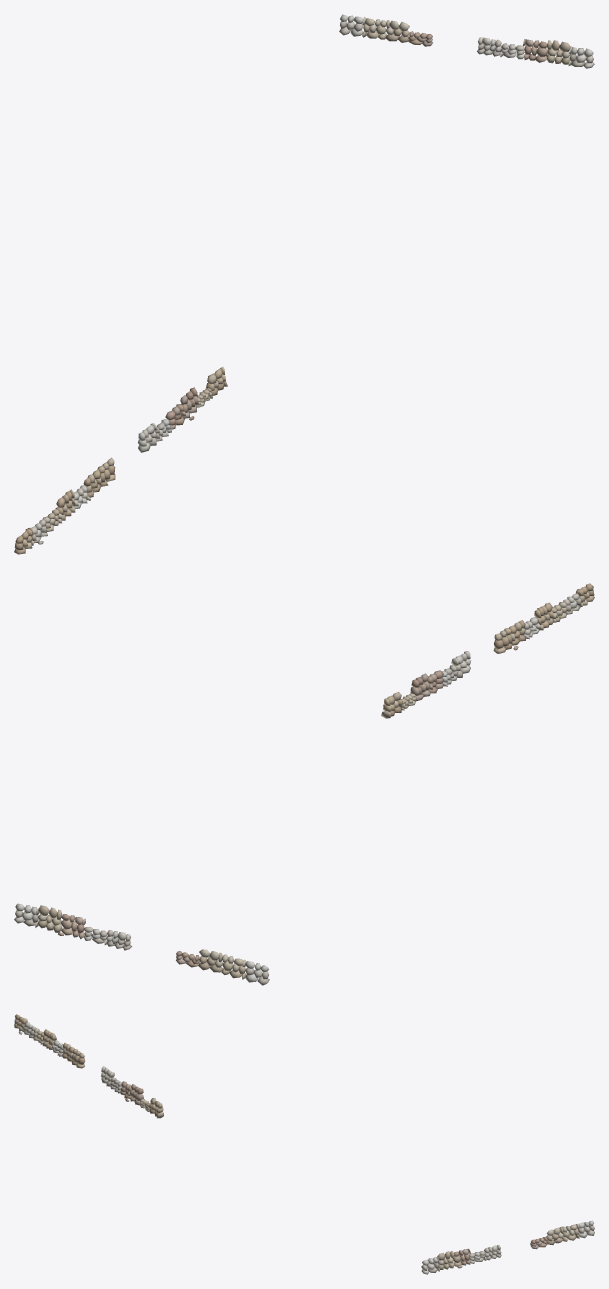
File: farm_18_8_near.glb
The picture shows the model from 3 angles, top to bottom: view 1: azimuth 30°, elevation 25°; view 2: azimuth 210°, elevation 25°; view 3: azimuth 270°, elevation 25°; orthographic projection. The views are drawn at different scales.
Parts seen in each view (by area): view 1: geometry_0; view 2: geometry_0; view 3: geometry_0.
Boxes of the visible parts, bbox=[...] form: geometry_0: bbox=[14, 14, 594, 554]; geometry_0: bbox=[14, 583, 594, 985]; geometry_0: bbox=[14, 1014, 594, 1274].
Size of the model in its own units: 57.38 by 6.66 by 45.15.
